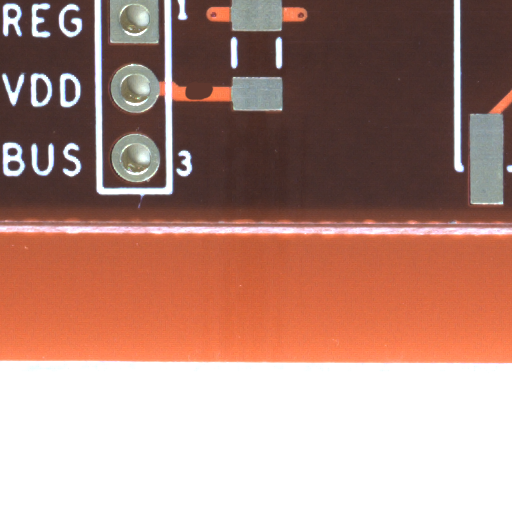Mouse_bite: (199, 91, 232, 117)
